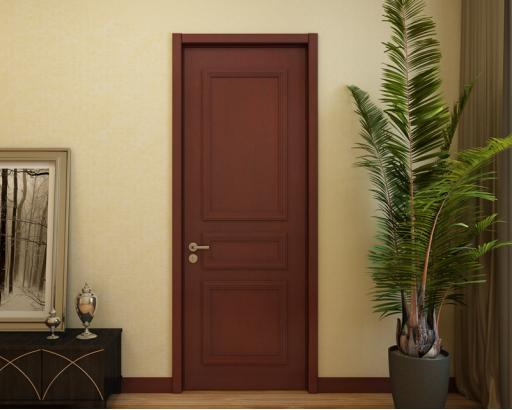door: (181, 44, 312, 386)
